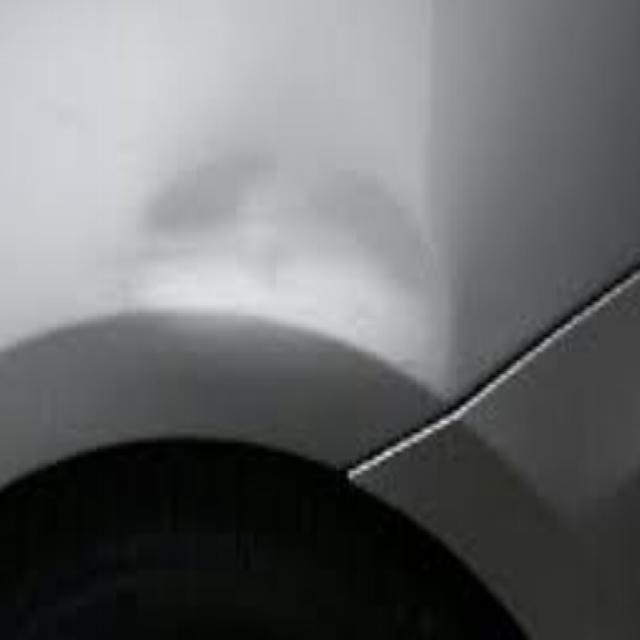dents: (129, 162, 493, 428)
